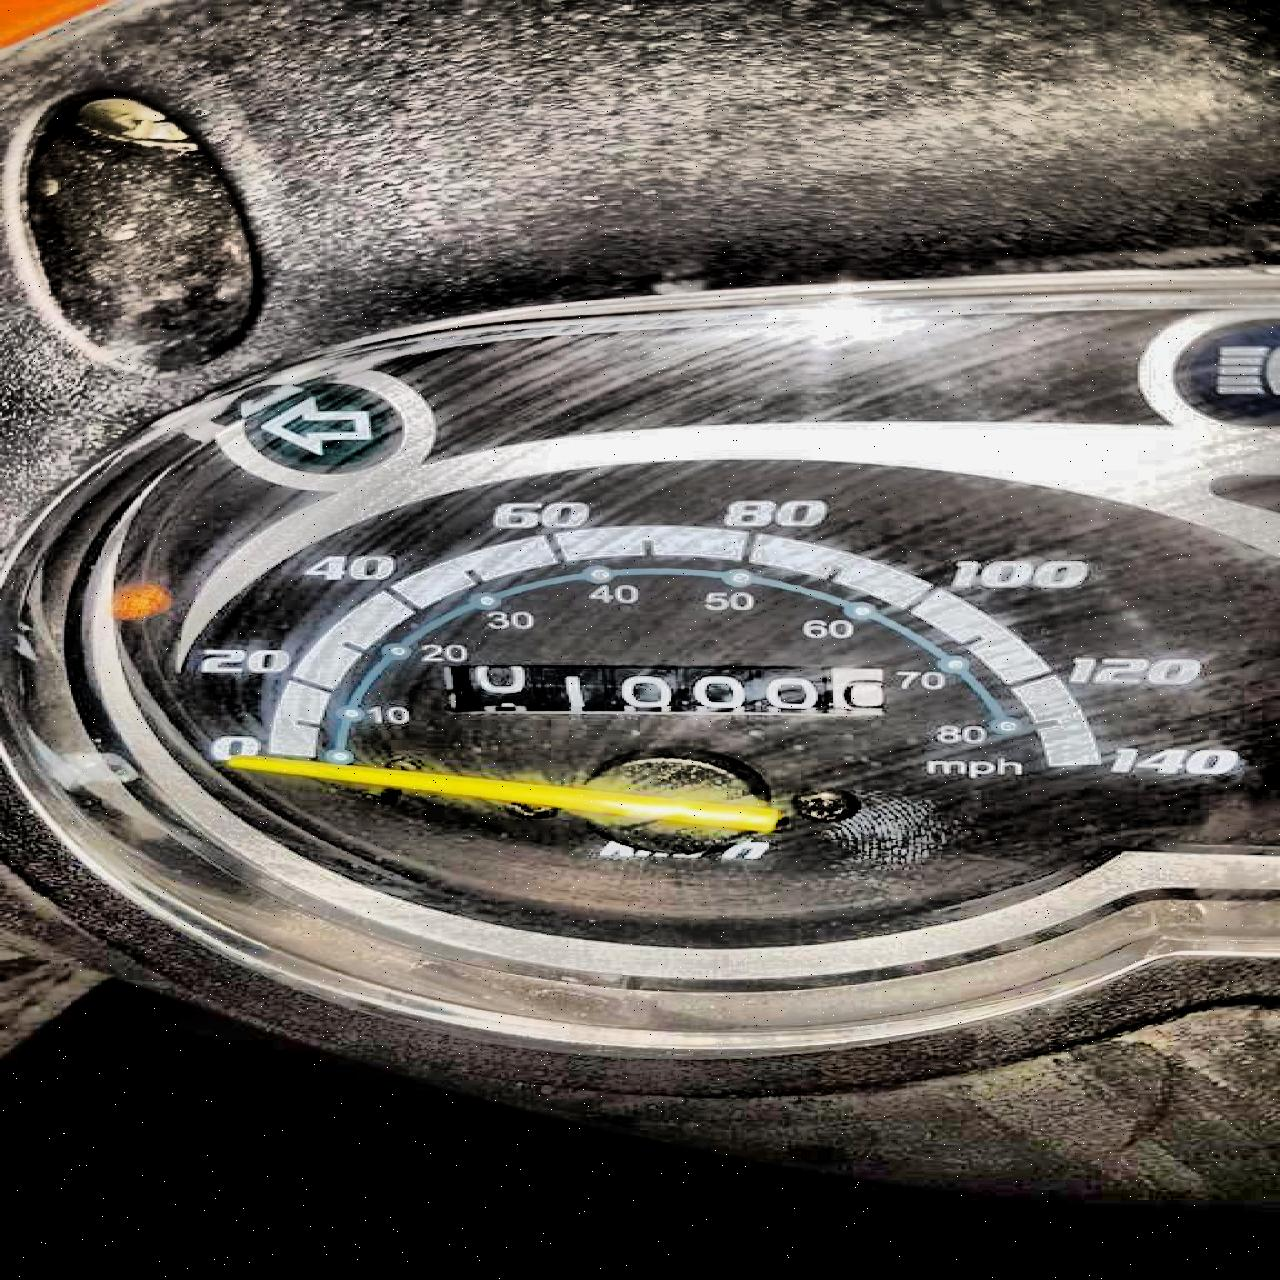0: (618, 670, 675, 715), (469, 661, 529, 699), (764, 673, 819, 710), (692, 673, 744, 712), (836, 675, 886, 714)
1: (551, 667, 591, 708)
odometer: (437, 659, 896, 723)
